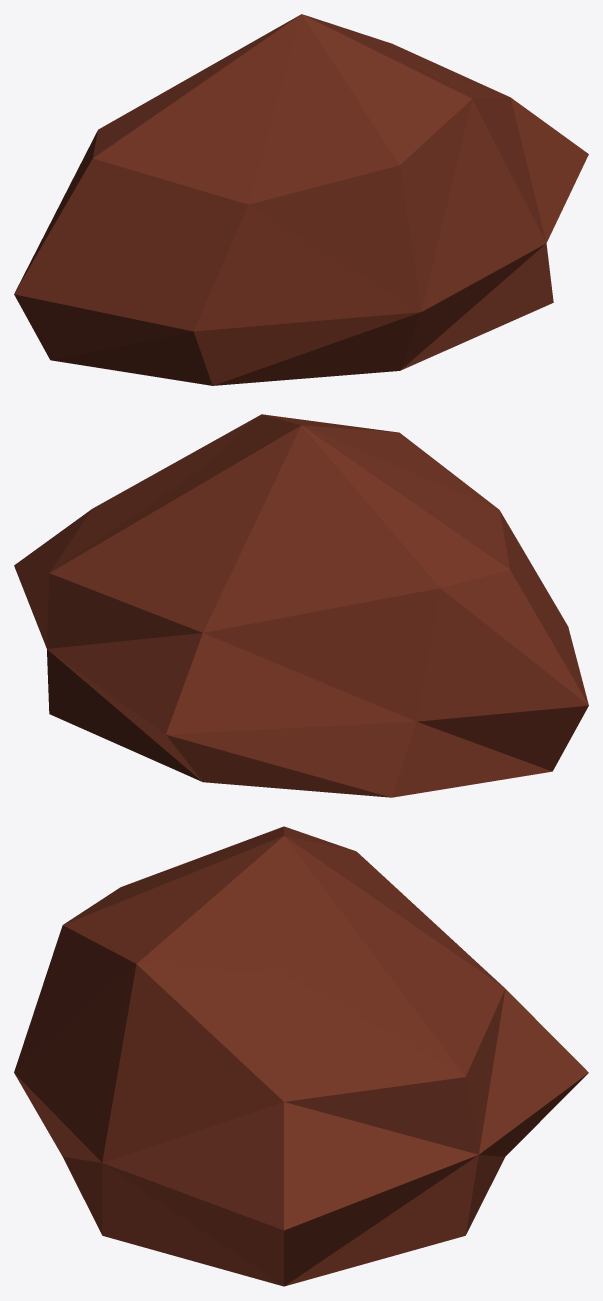
File: Stone-2.fbx
3 renders of one model, top to bottom at view 1: azimuth 30°, elevation 25°; view 2: azimuth 150°, elevation 25°; view 3: azimuth 270°, elevation 25°, orthographic. The views are drawn at different scales.
Parts seen in each view (by area): view 1: Cube; view 2: Cube; view 3: Cube.
Boxes of the visible parts, x1=… form: Cube: x1=14, y1=14, x2=588, y2=385; Cube: x1=14, y1=414, x2=588, y2=797; Cube: x1=14, y1=826, x2=588, y2=1286.
Size of the model in its own units: 491 by 256 by 378.
